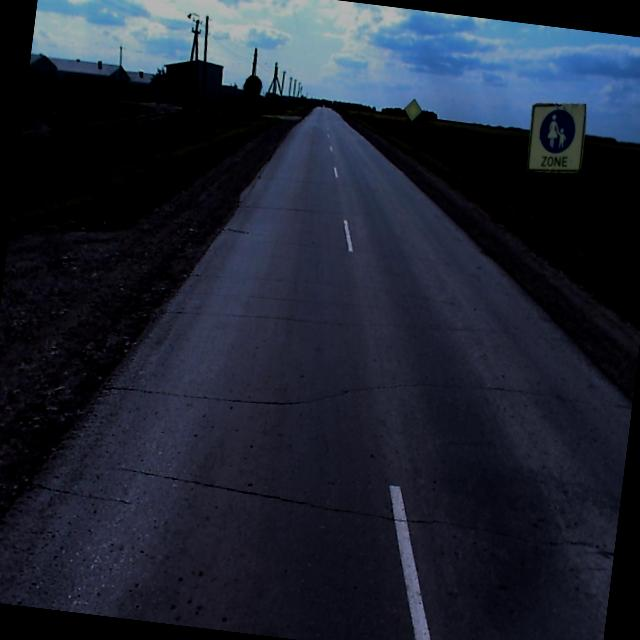road: (0, 105, 631, 640)
